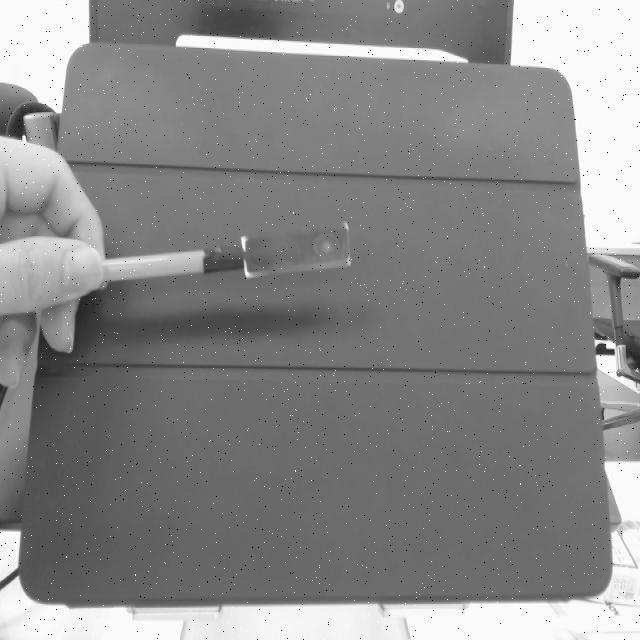traffic light: (237, 219, 354, 281)
